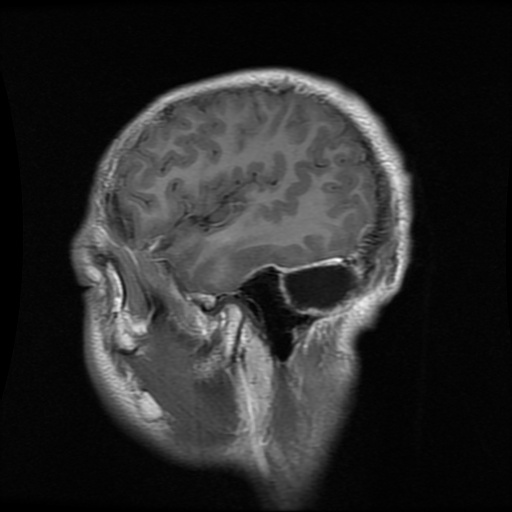glioma: (281, 268, 359, 310)
